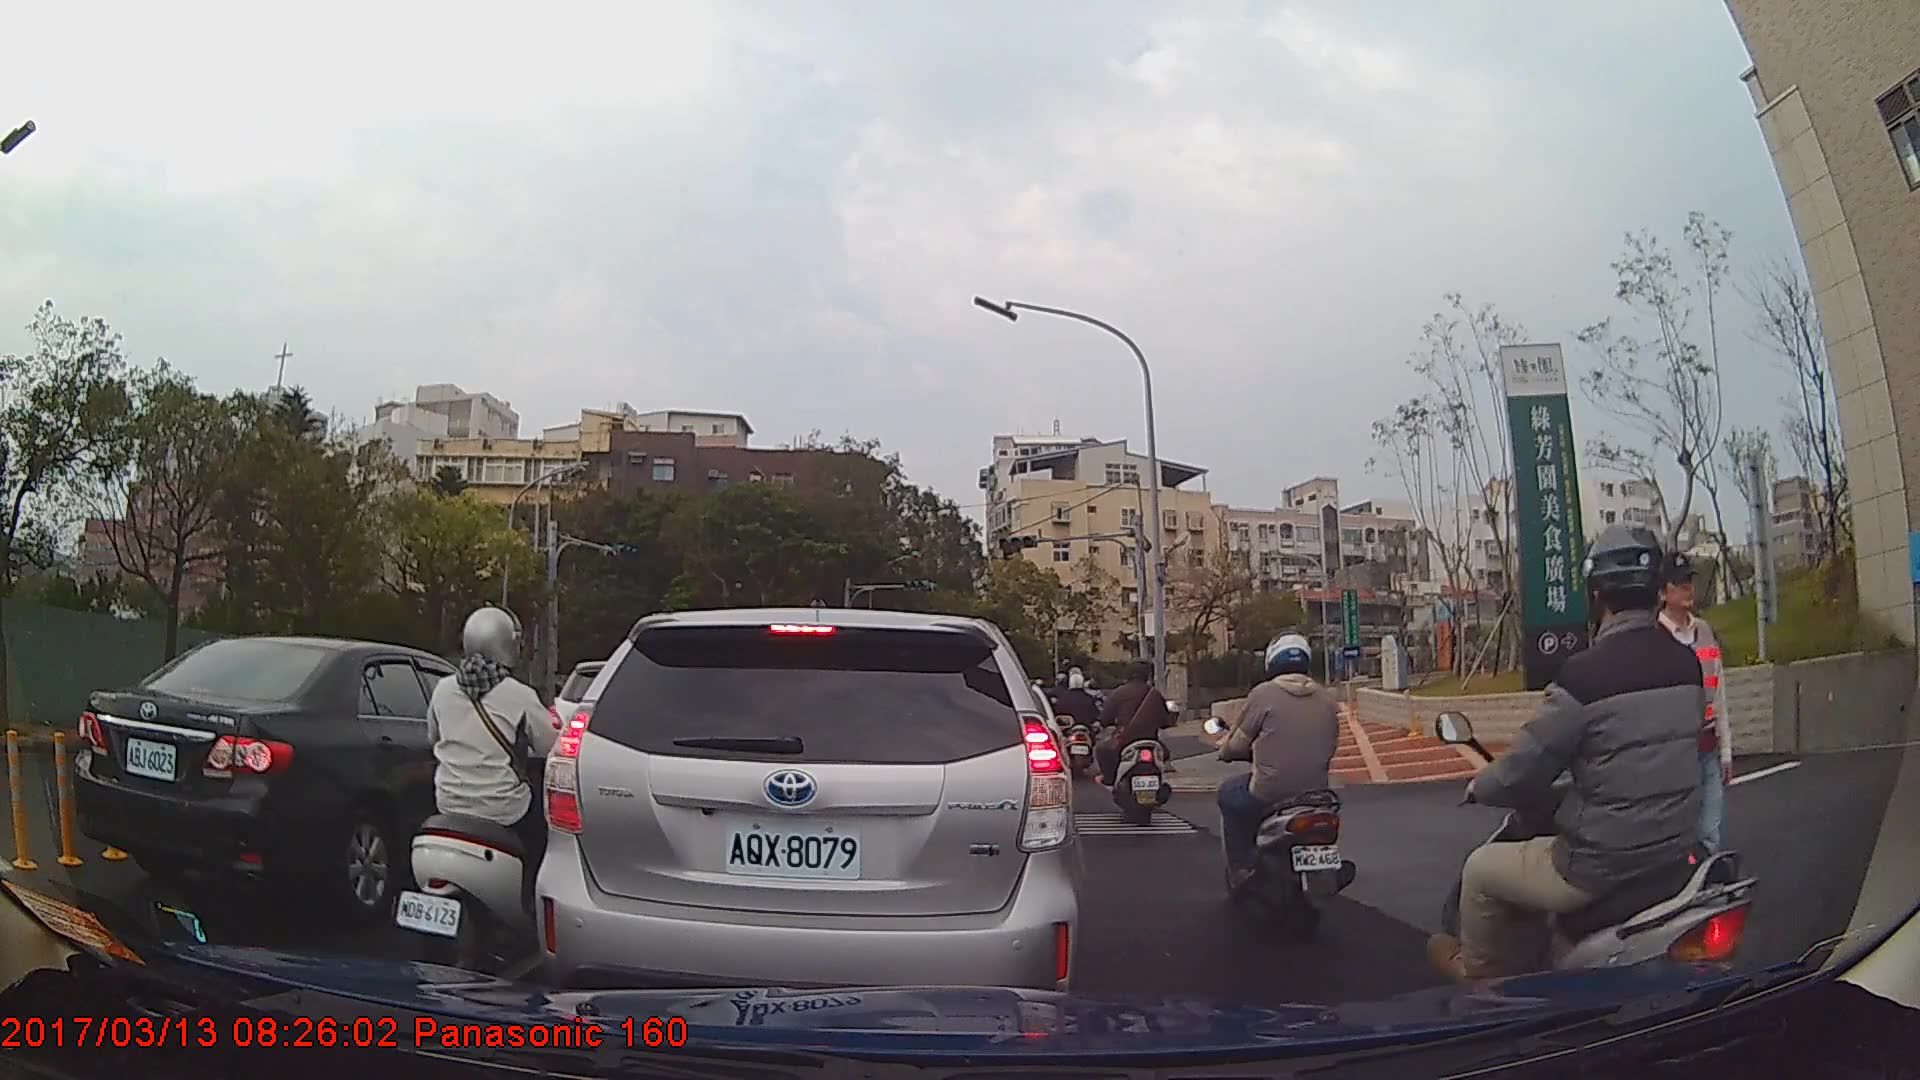rider: (1430, 522, 1777, 1040), (395, 605, 595, 981), (1210, 633, 1350, 929), (1093, 660, 1173, 823), (1063, 668, 1104, 784)
vehicle: (530, 608, 1087, 1017), (71, 634, 559, 919)
